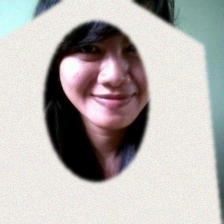Mukena: (0, 28, 209, 224)
